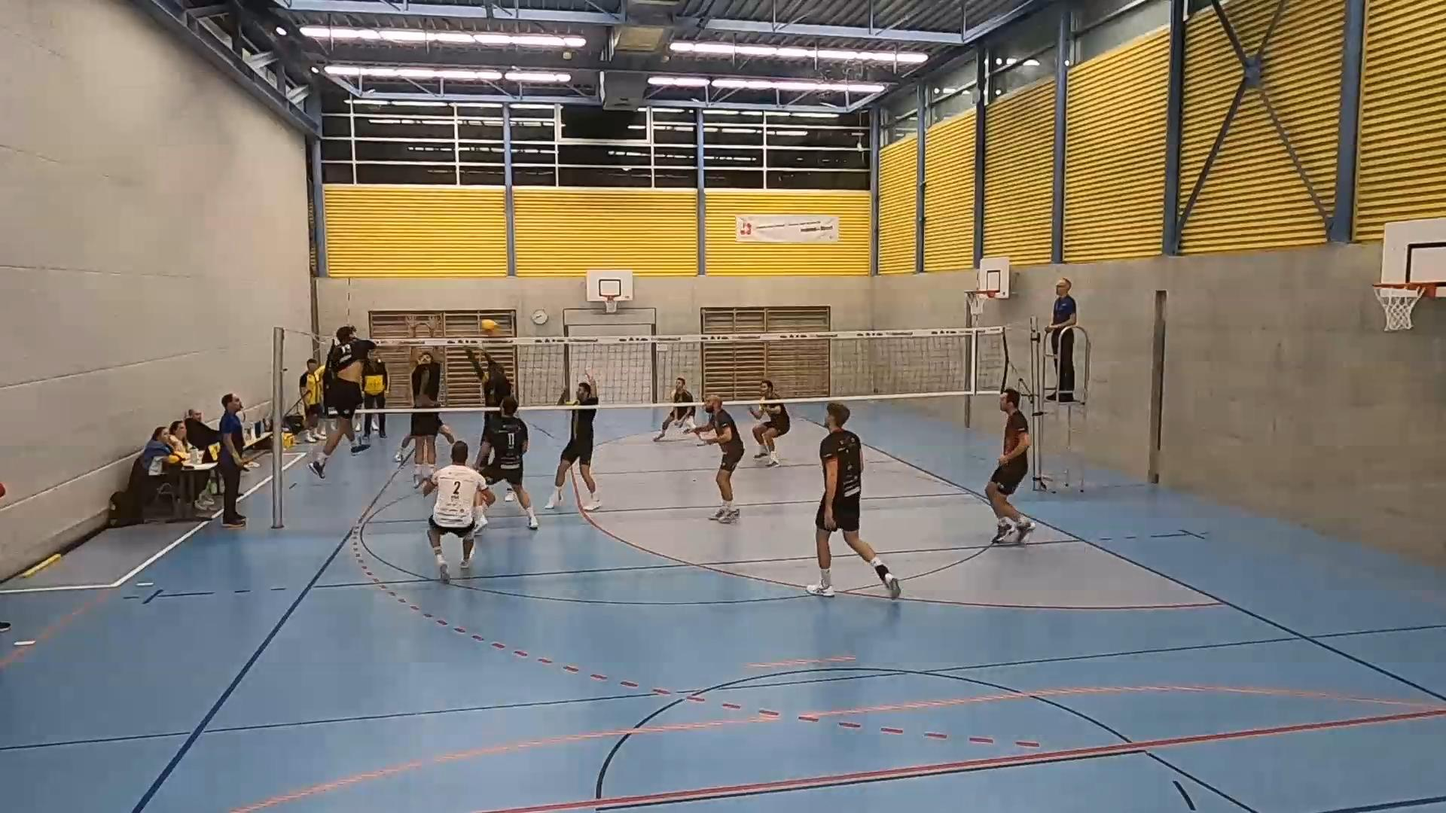attacco: (291, 323, 391, 478)
muro: (402, 309, 450, 495), (459, 338, 508, 462)
